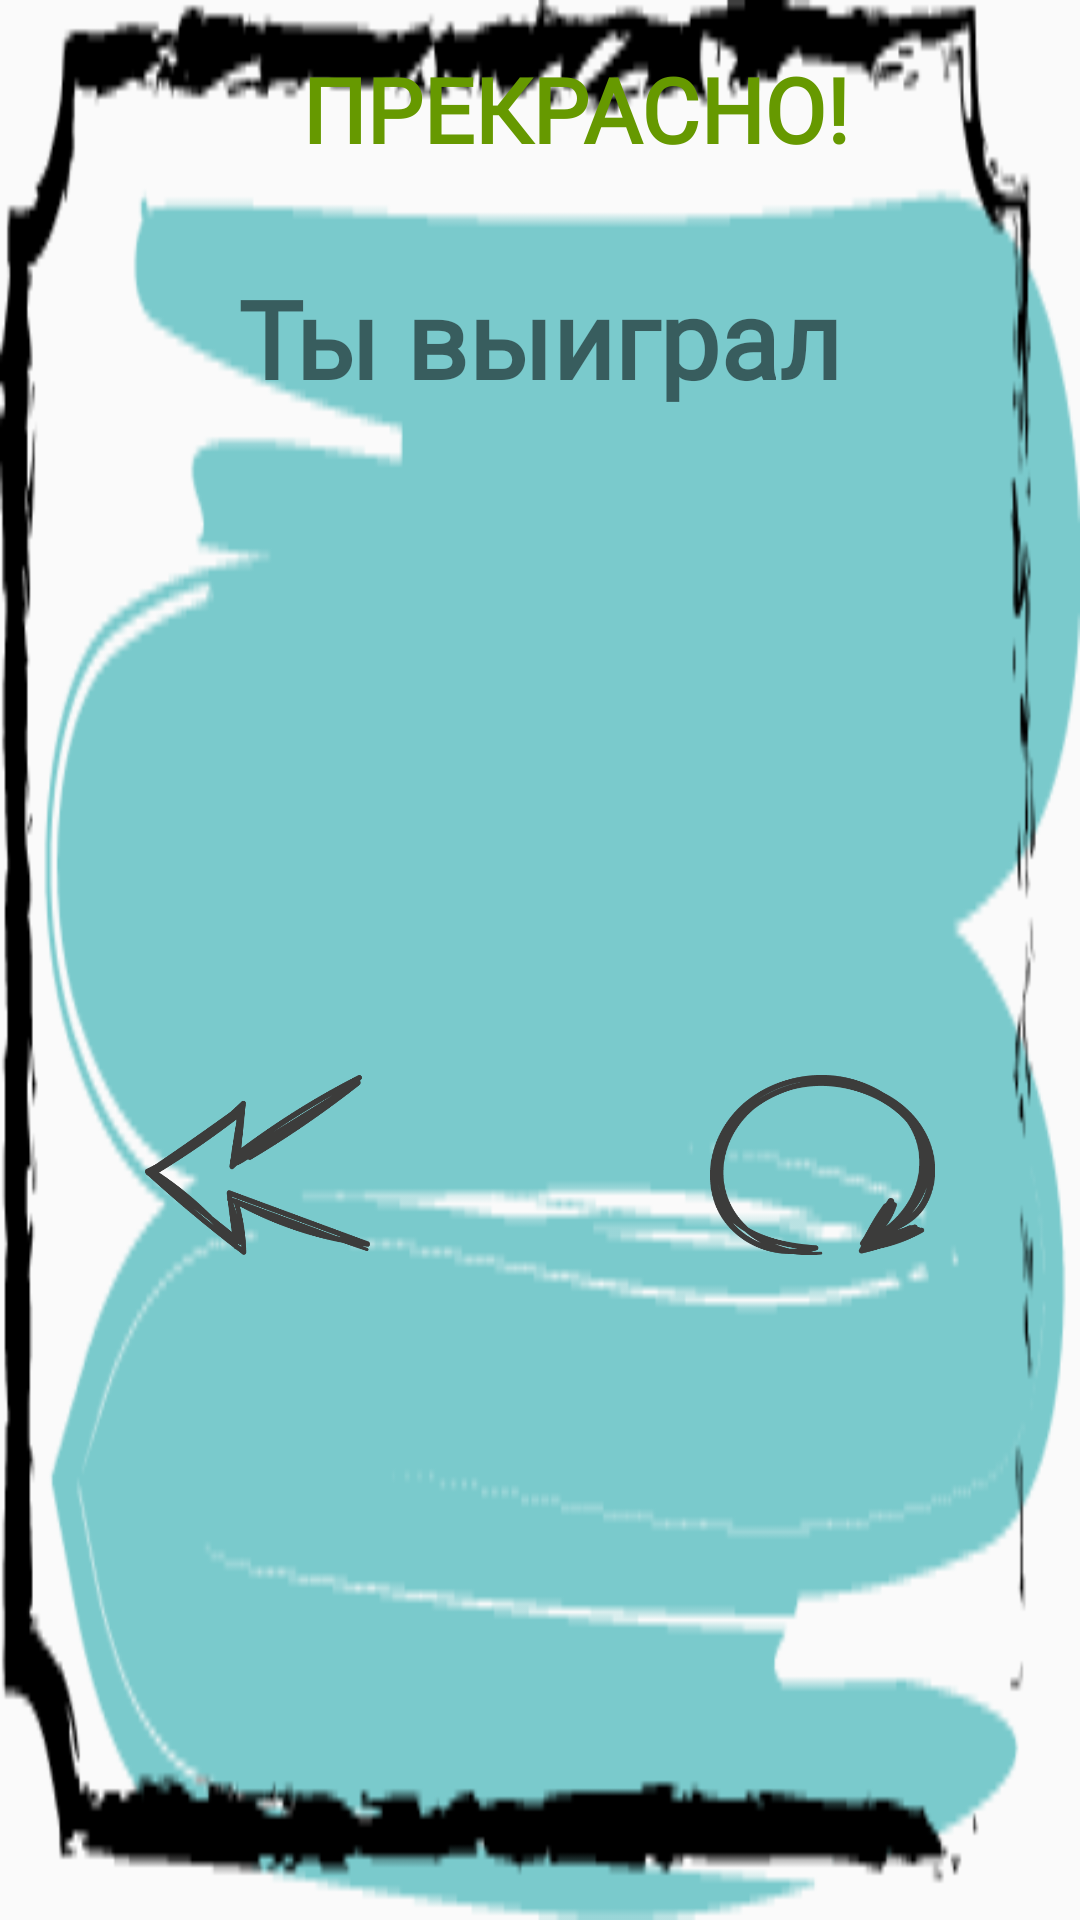

Named icons in this screenshot (1080×1920) and their bounding boxes, (x1, y1, x2, y2):
back: (145, 1075, 370, 1255)
